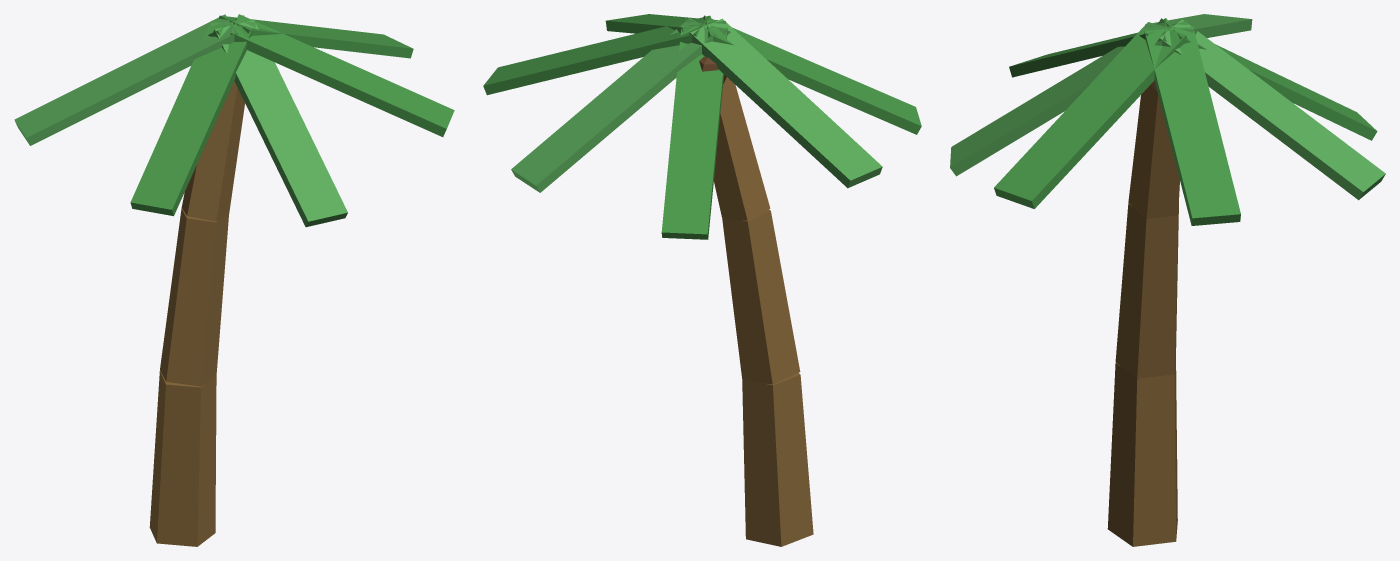
Rendered from palm.glb.
3 views of the same model, side by side, from view 1: azimuth 30°, elevation 25°; view 2: azimuth 150°, elevation 25°; view 3: azimuth 270°, elevation 25° (orthographic). The views are drawn at different scales.
Parts seen in each view (by area): view 1: palm; view 2: palm; view 3: palm.
Part boxes in pixels (bbox=[...]): palm: bbox=[14, 14, 454, 546]; palm: bbox=[483, 14, 921, 546]; palm: bbox=[950, 14, 1385, 546].
Size of the model in its own units: 2.15 by 2.63 by 1.93.
